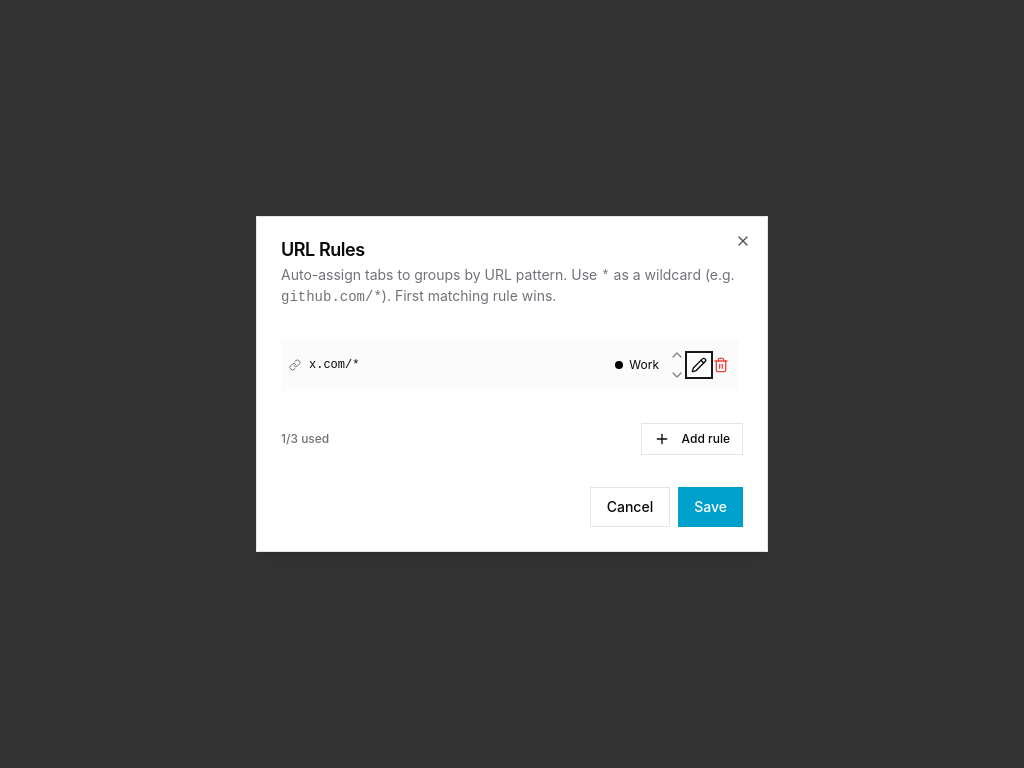
UrlRulesModal — listing rules › deletes a rule from the draft without persisting until outer Save
Click the button named "delete rule".
click(721, 365)  # box [711,355,731,375]
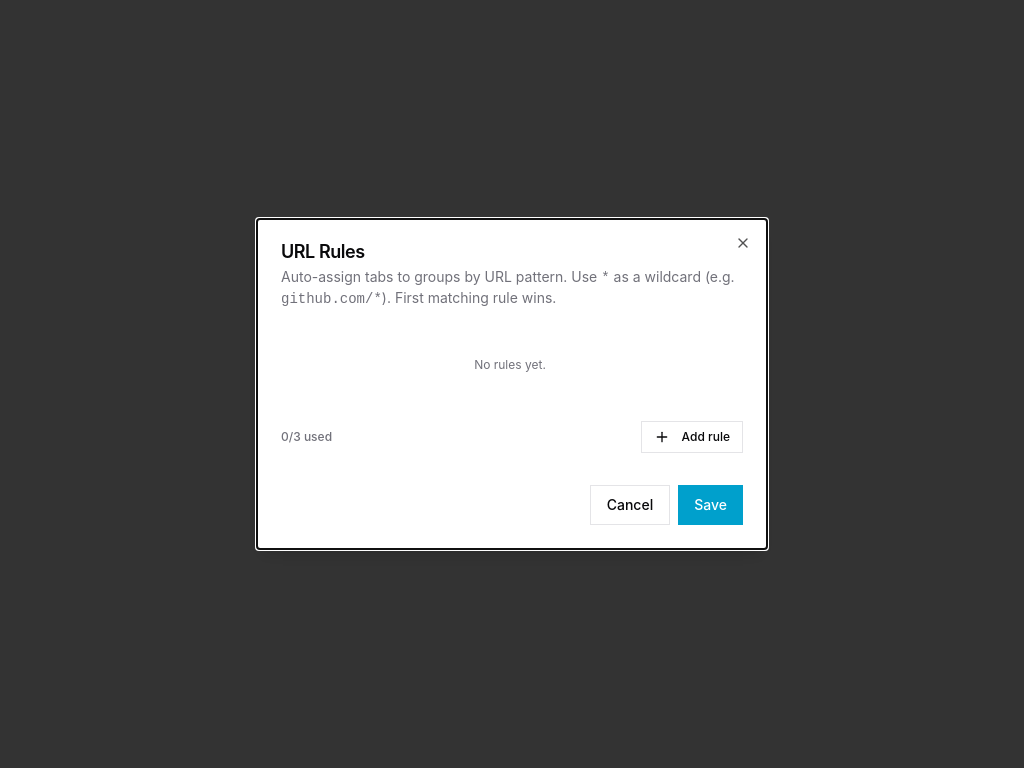
Expected: the text "No rules yet." is shown, [474,357,546,372]
